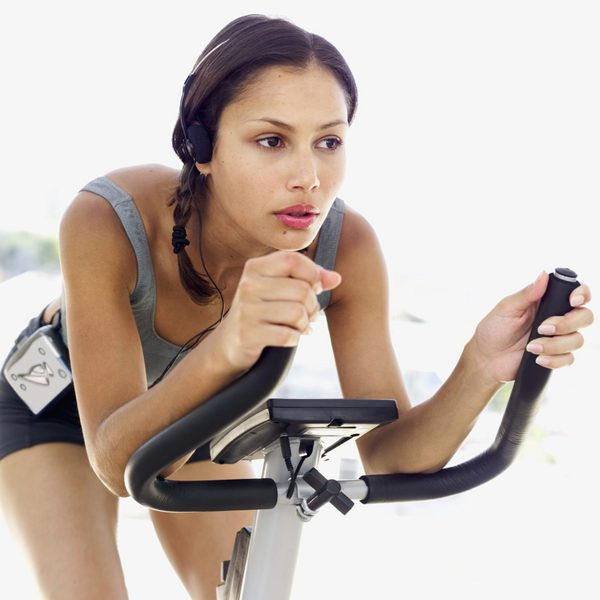gym_bike: (105, 290, 569, 598)
